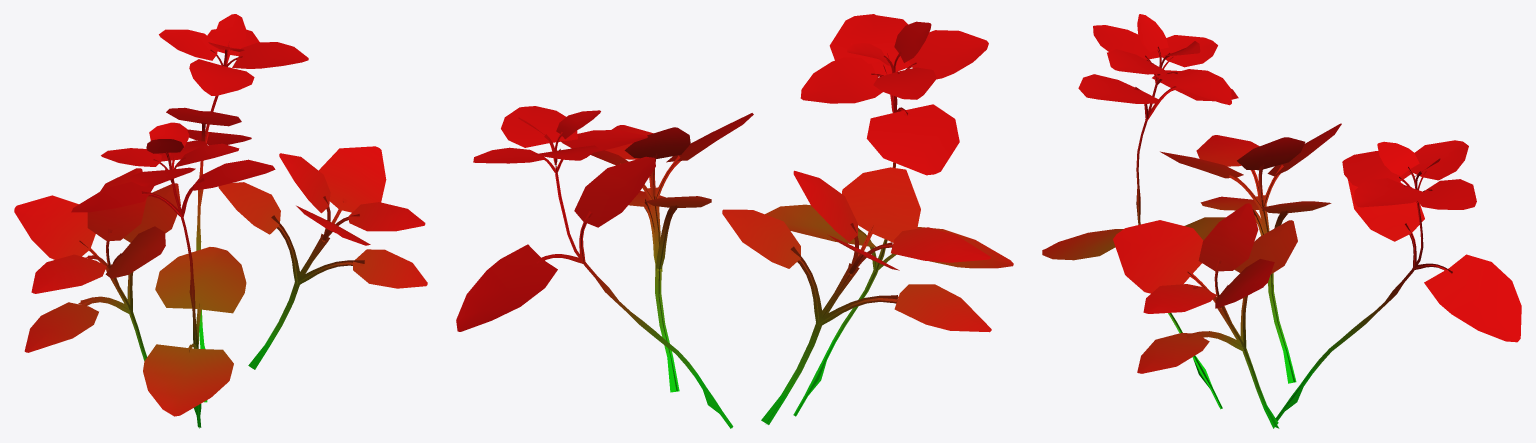
Rendered from Yellow Archangel_LOD0_Var11_wcwmcfvia.fbx.
3 renders of one model, left to right at view 1: azimuth 30°, elevation 25°; view 2: azimuth 150°, elevation 25°; view 3: azimuth 270°, elevation 25°, orthographic. The views are drawn at different scales.
Parts seen in each view (by area): view 1: _45xm_Var11_LOD0; view 2: _45xm_Var11_LOD0; view 3: _45xm_Var11_LOD0.
Boxes of the visible parts, x1,y1,x2,y2 form: _45xm_Var11_LOD0: (14,14,427,428); _45xm_Var11_LOD0: (456,14,1013,428); _45xm_Var11_LOD0: (1042,14,1521,428).
Size of the model in its own units: 9 by 7.74 by 9.49.
